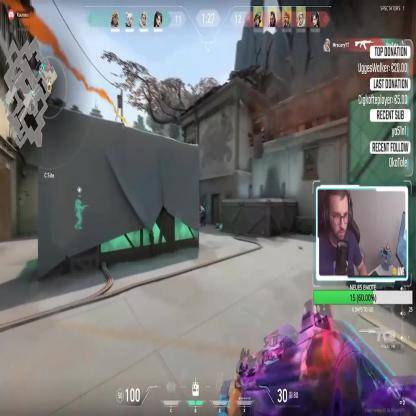enemy: (197, 202, 206, 228)
